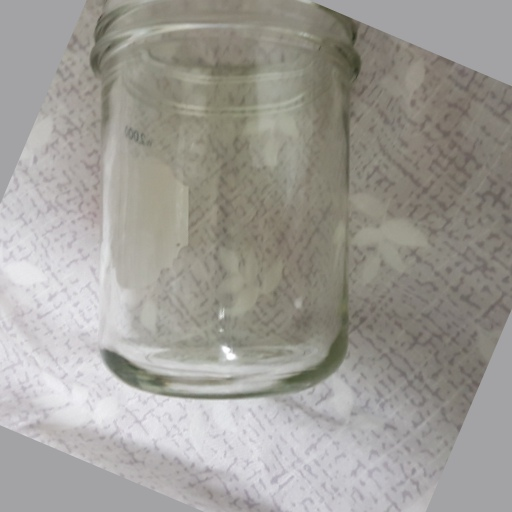Glass_5: (90, 3, 350, 393)
